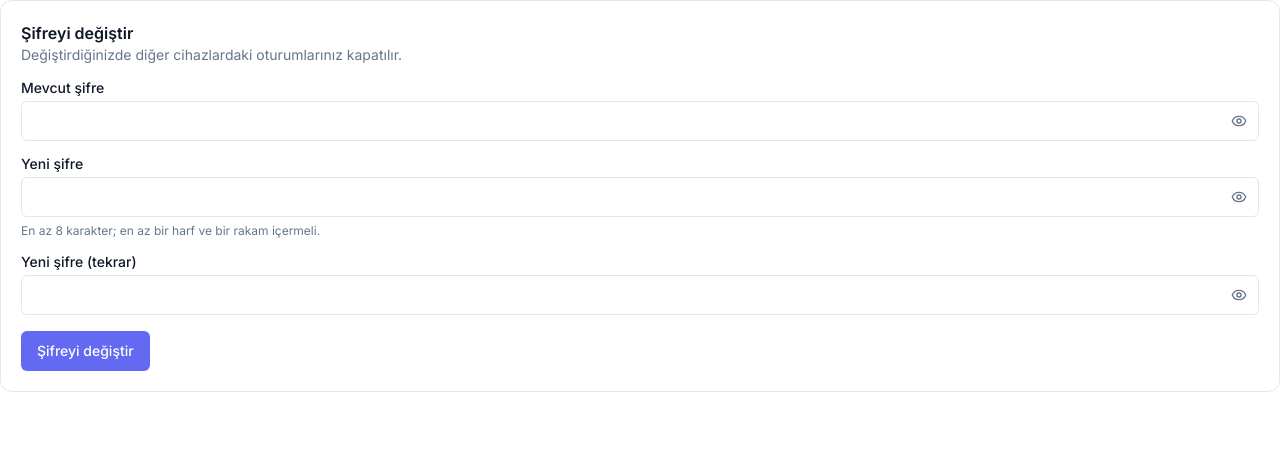
Scenario: GV-19: ChangePasswordSection › backend hatası (yanlış mevcut şifre) kullanıcıya gösterilir
The width and height of the screenshot is (1280, 471).
In the password field labelled "Mevcut şifre": point(640, 121) left=21, top=101, right=1259, bottom=141, type "Yanlis123"
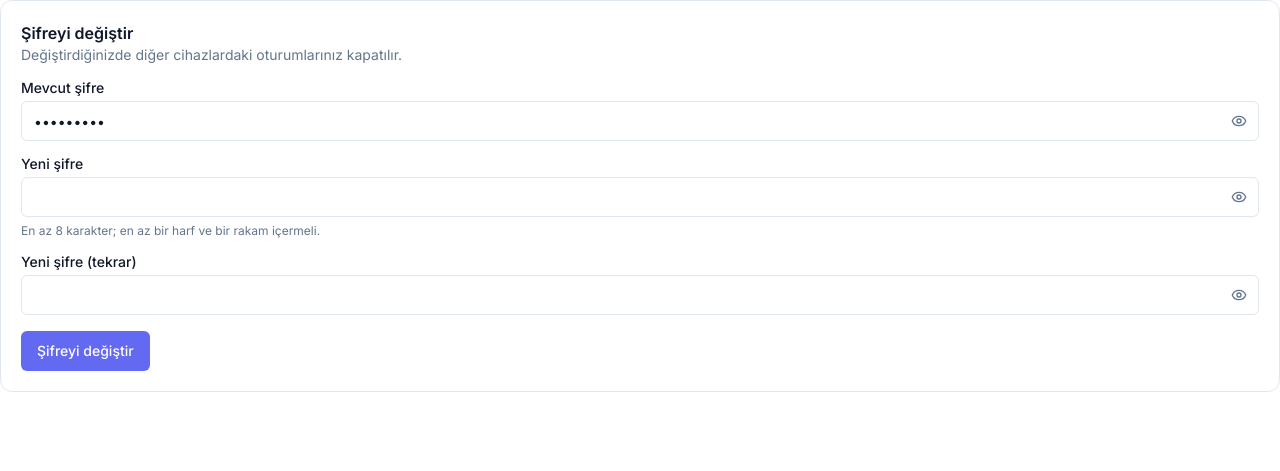
In the password field labelled "Yeni şifre": point(640, 197) left=21, top=177, right=1259, bottom=217, type "Yeni12345"
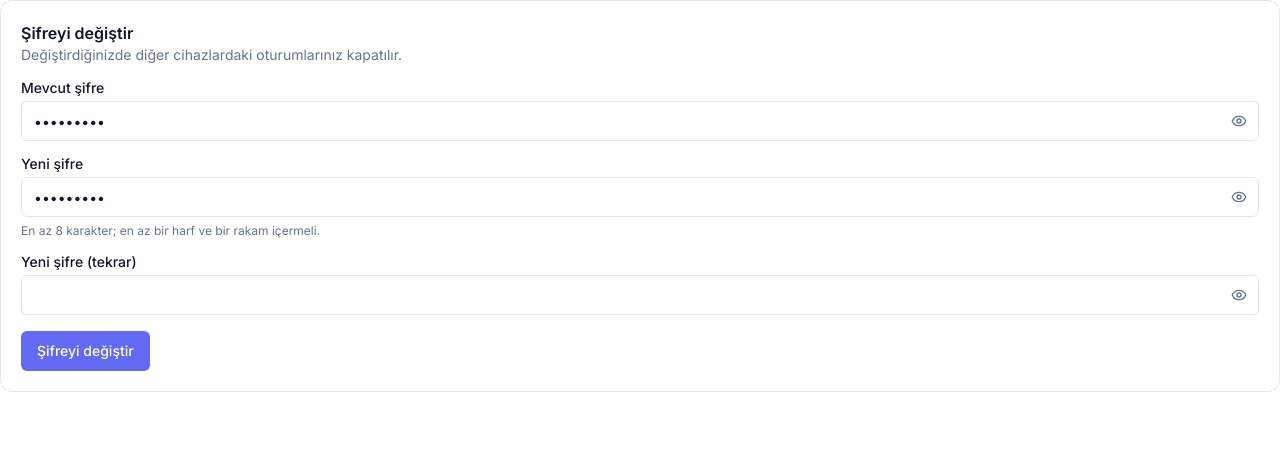
In the password field labelled "Yeni şifre (tekrar)": point(640, 295) left=21, top=275, right=1259, bottom=315, type "Yeni12345"
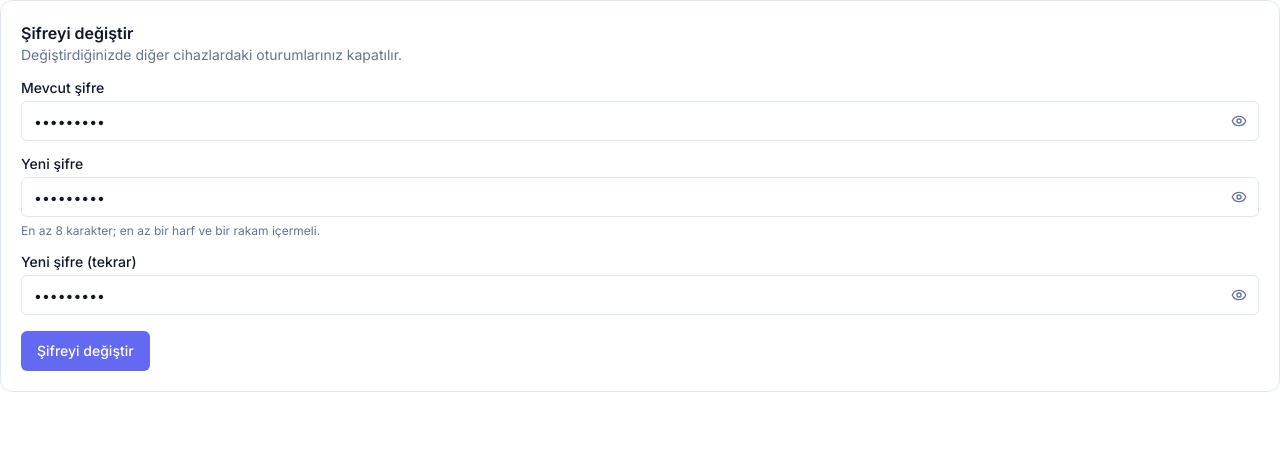
Click the button "Şifreyi değiştir": point(85, 351) left=21, top=331, right=150, bottom=371
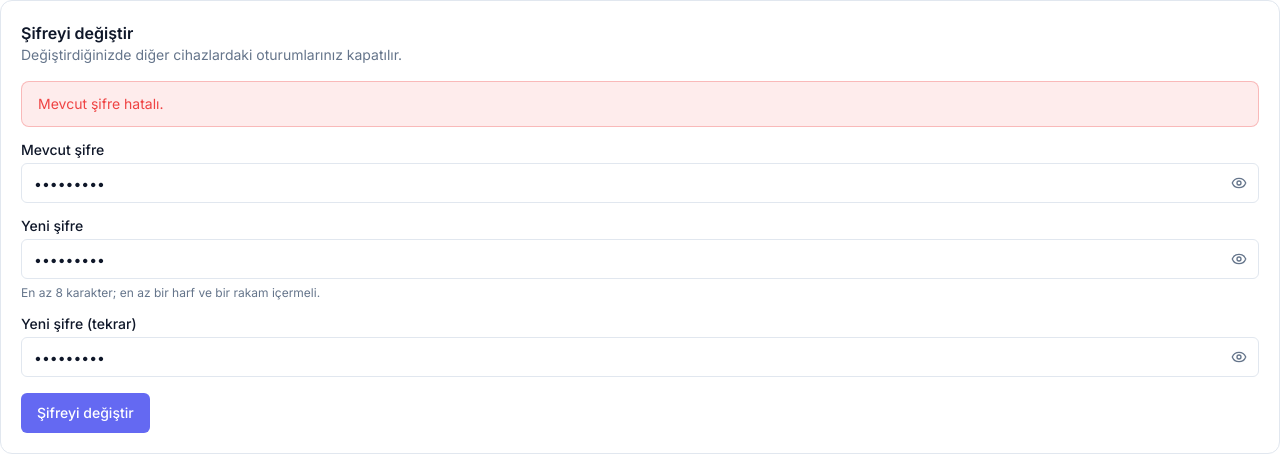
Result: the text "Mevcut şifre hatalı." is shown at left=21, top=81, right=1259, bottom=127
